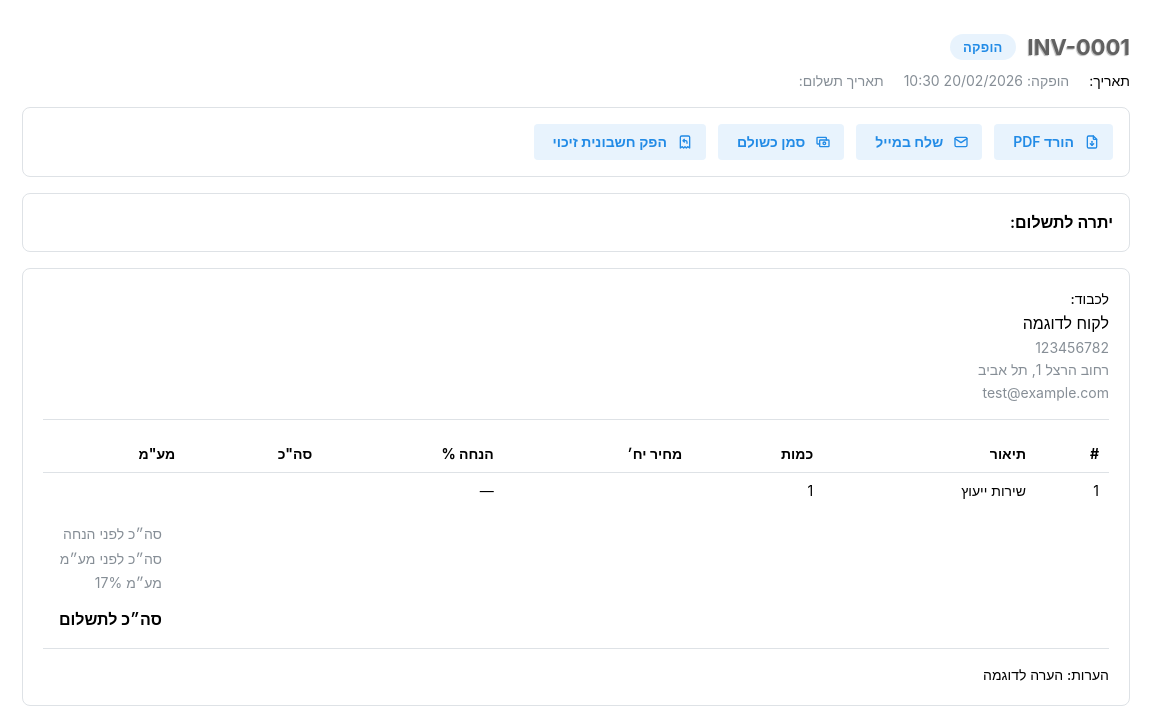
Test case: InvoiceDetail › payments › opens payment modal on button click
The image size is (1152, 720).
What coordinates should you click on to do the following:
click the button "סמן כשולם"
I would click on:
 (781, 142)
Its box is [718, 124, 844, 160].
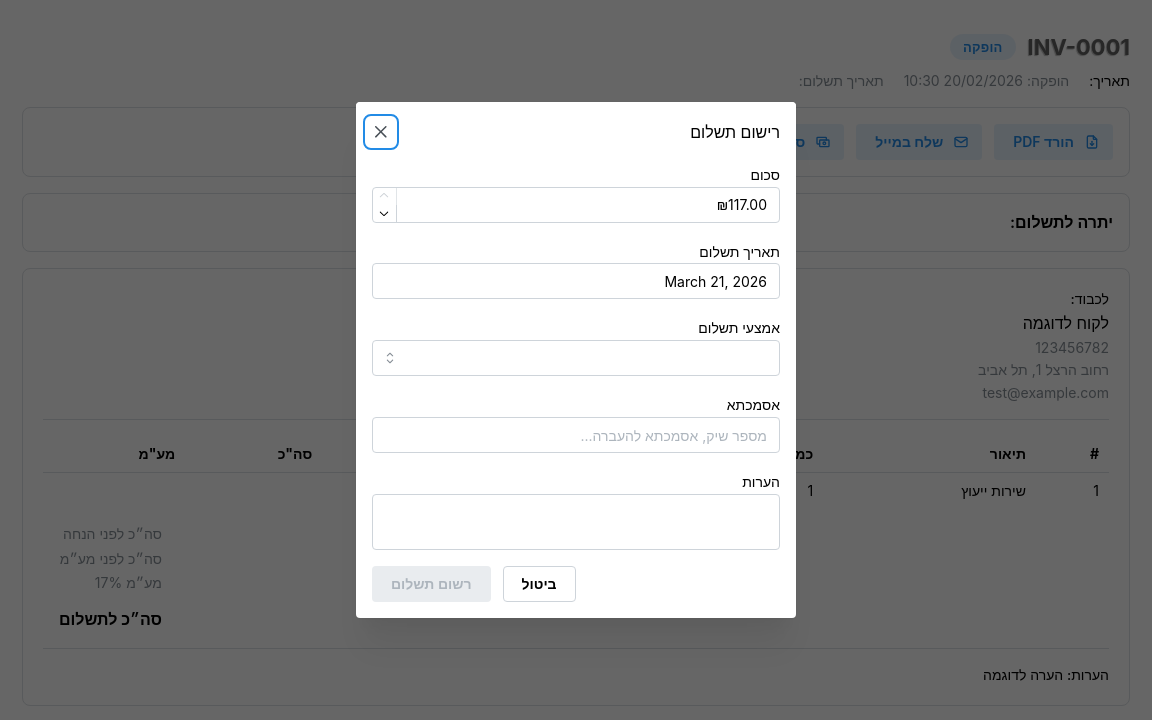
Check: the heading "רישום תשלום" is shown, box [690, 124, 780, 140]
Check: the field with test id "payment-amount-input" is shown, box [372, 187, 780, 223]
Check: the field with test id "payment-method-input" is shown, box [372, 340, 780, 376]
